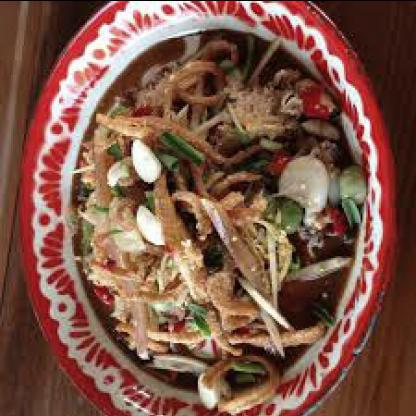Papaya Salad: (41, 19, 399, 408)
